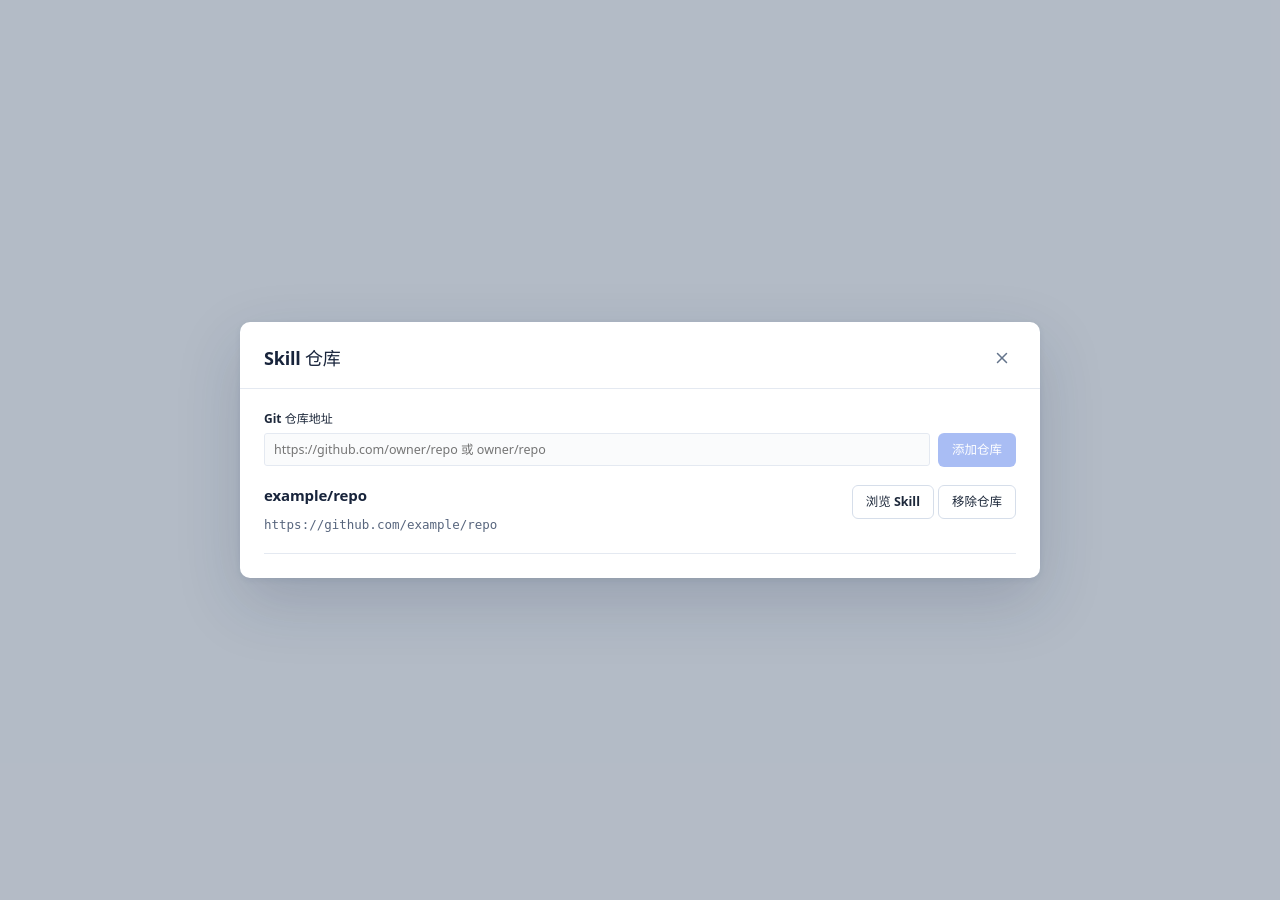
Test: keeps a failed add visible without closing the repository list
The image size is (1280, 900).
Click the button "浏览 Skill". click: coordinates (893, 502)
box: [852,485,934,519]
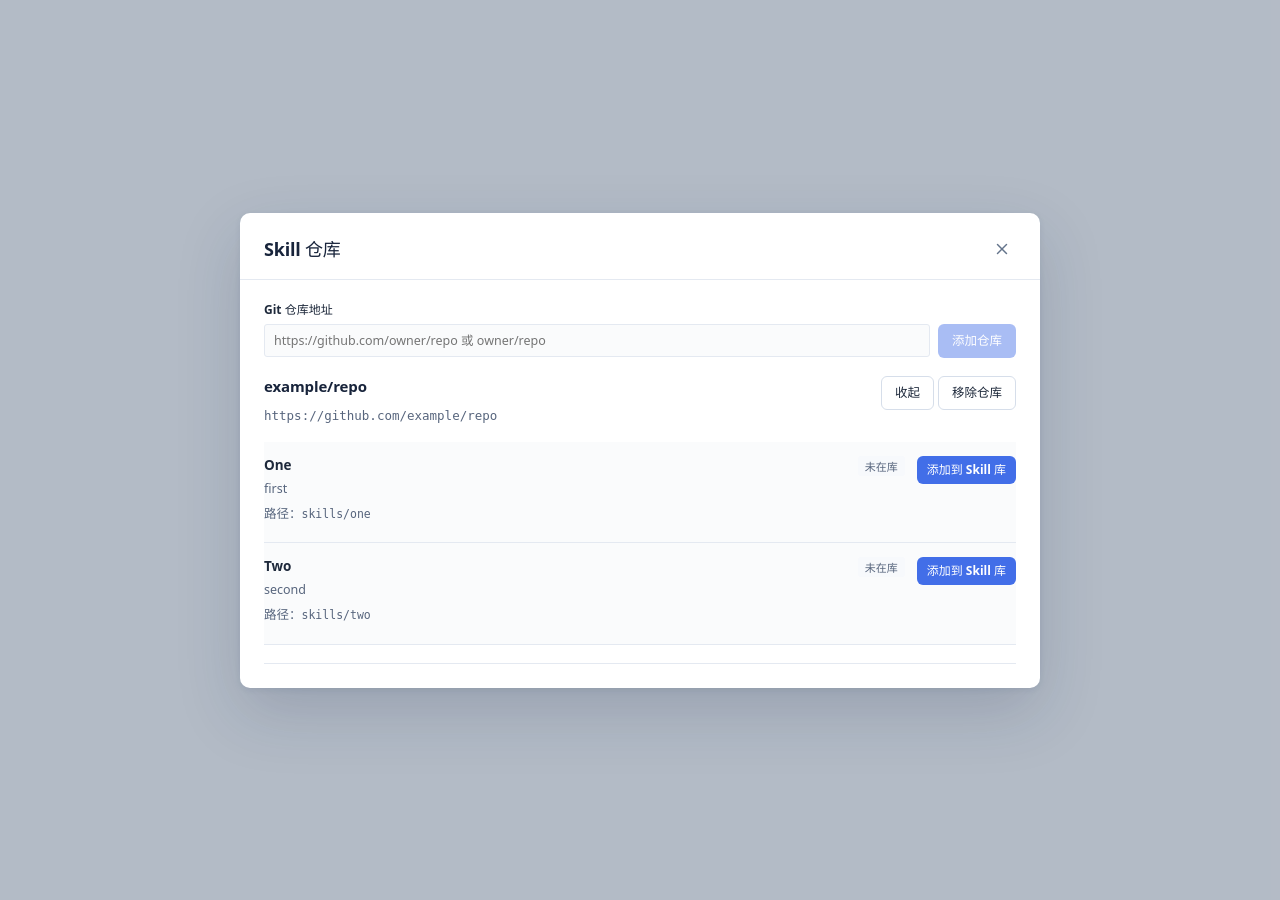
Click the button with aria-label "添加到 Skill 库 One". click: coordinates (966, 470)
box: [917,456,1016,484]
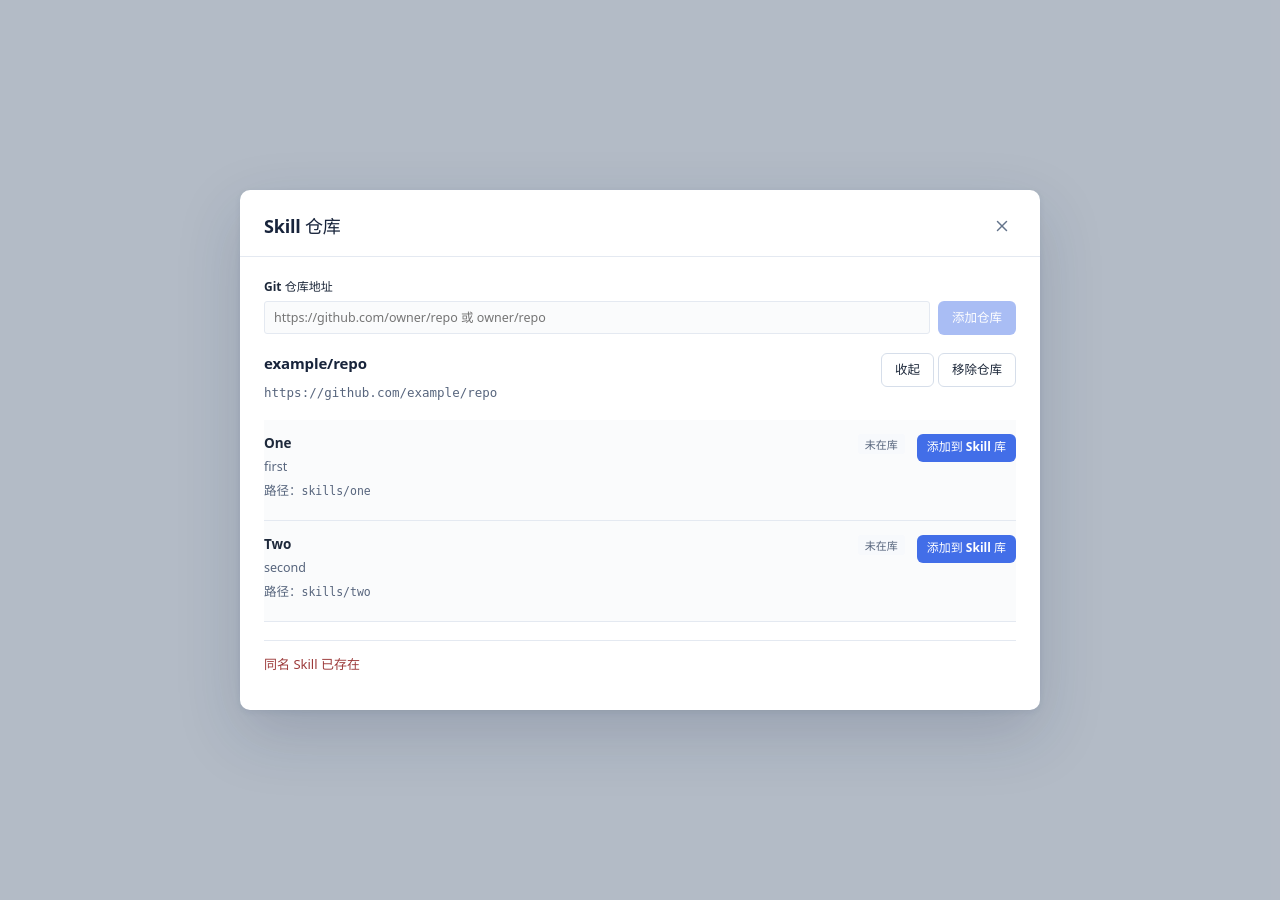
Expected: the button with aria-label "添加到 Skill 库 One" is enabled, [917,434,1016,462]
Expected: the message reads "同名 Skill 已存在", [264,655,360,673]
